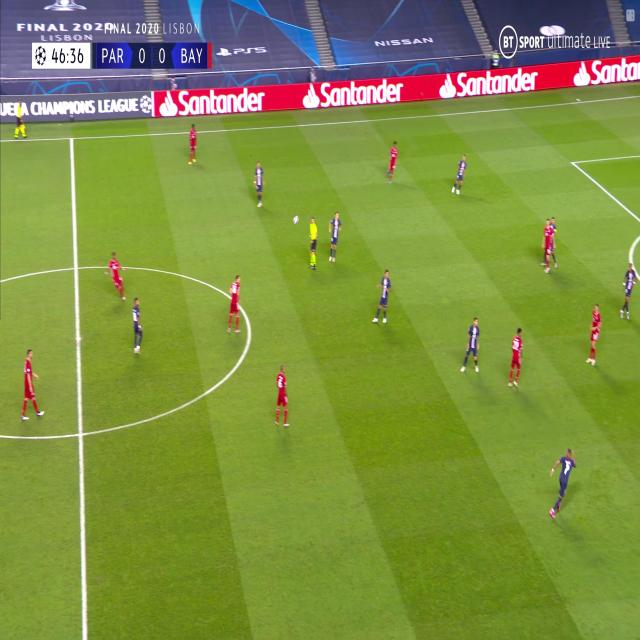ball: (293, 214, 299, 224)
player: (548, 447, 577, 521), (20, 347, 44, 420), (460, 316, 481, 374), (585, 303, 603, 366), (507, 327, 525, 390), (372, 269, 392, 325), (105, 252, 127, 302), (619, 264, 637, 320), (274, 365, 290, 428), (227, 274, 242, 336), (542, 217, 556, 273), (328, 211, 342, 263), (306, 216, 319, 272), (131, 296, 143, 356), (451, 153, 466, 195), (253, 159, 265, 209), (386, 140, 399, 183), (187, 123, 198, 164), (14, 103, 26, 139)
